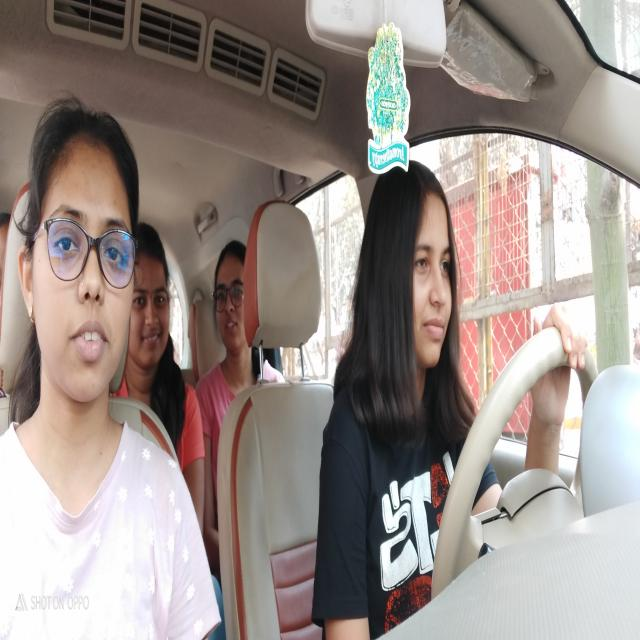person: (16, 90, 139, 422), (377, 167, 458, 376), (132, 224, 175, 368), (212, 242, 250, 363)
